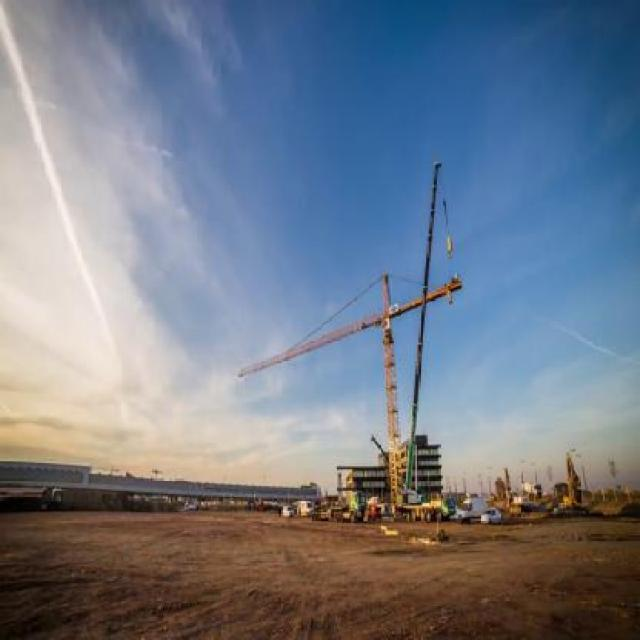Mobile Crane: (397, 154, 443, 523)
